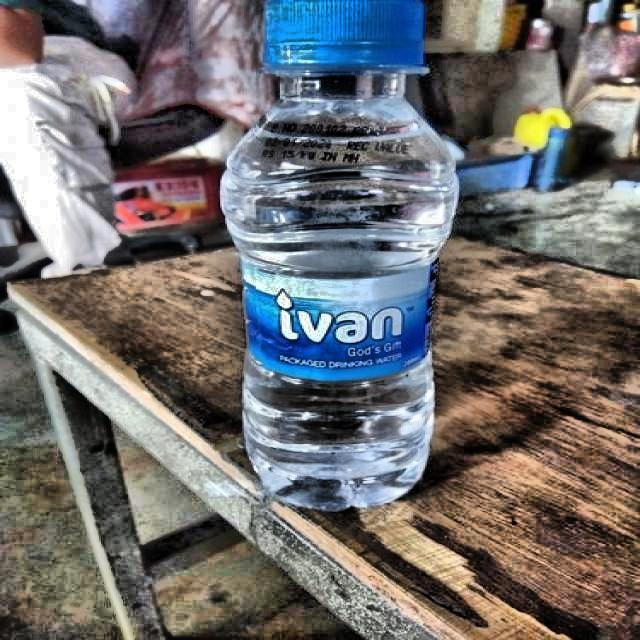plastic bottle: (222, 0, 459, 512)
